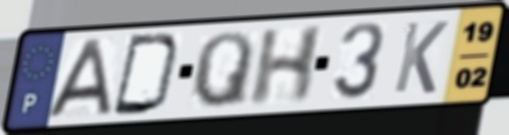3: (330, 21, 386, 103)
A: (44, 36, 114, 121)
D: (109, 32, 185, 118)
H: (245, 23, 328, 110)
K: (390, 19, 452, 96)
Q: (189, 29, 257, 111)
